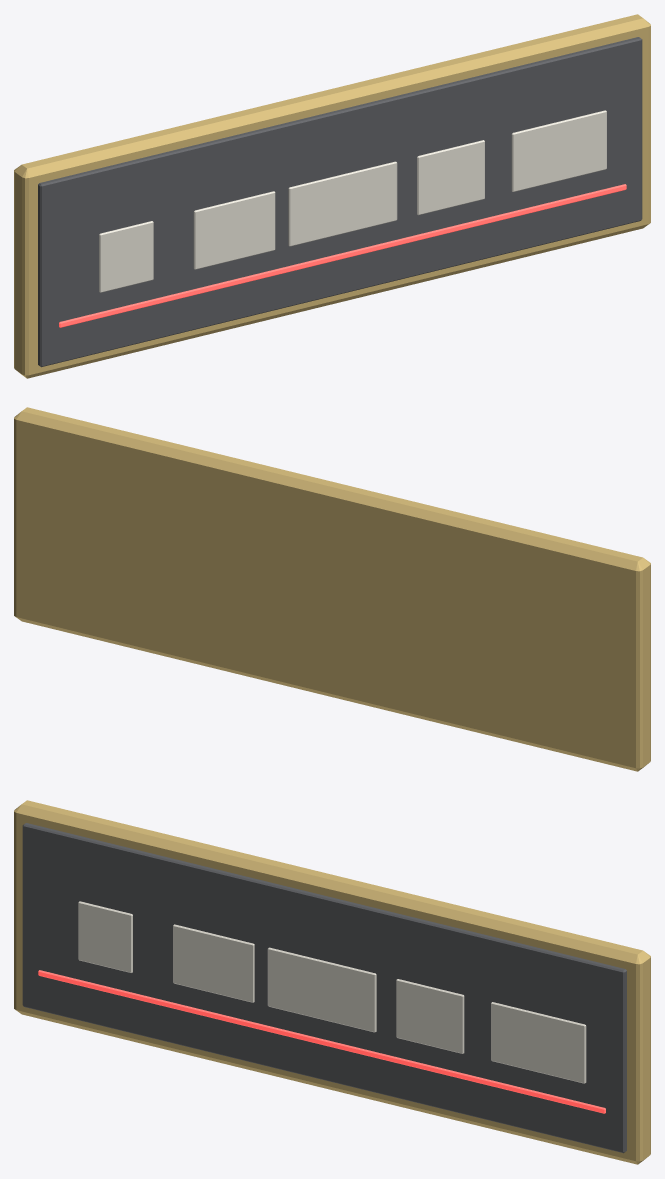
File: escape-room-and-puzzle-venue-venue-signage-board-0fa9ccf3__35808.glb
The picture shows the model from 3 angles, top to bottom: view 1: azimuth 30°, elevation 25°; view 2: azimuth 150°, elevation 25°; view 3: azimuth 330°, elevation 25°; orthographic projection.
Parts seen in each view (by area): view 1: venue-signage-board; view 2: venue-signage-board; view 3: venue-signage-board.
Boxes of the visible parts, x1,y1,x2,y2 form: venue-signage-board: (14, 14, 650, 378); venue-signage-board: (14, 407, 650, 771); venue-signage-board: (14, 800, 650, 1164).
Bounding box in the file's own units: 1.44 × 0.4601 × 0.069.
